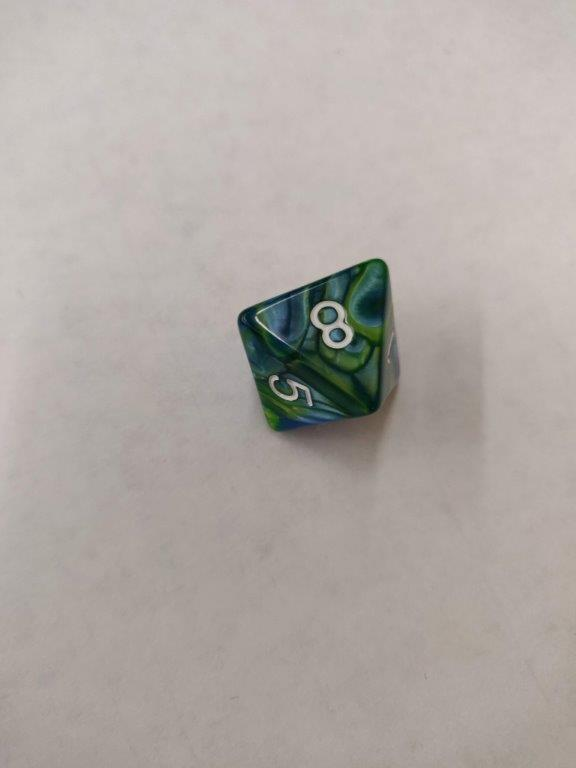d8-8: (235, 256, 401, 432)
